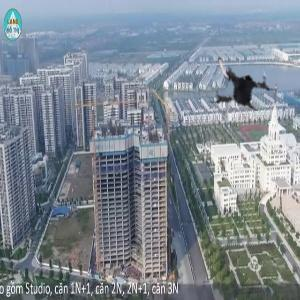drone: (200, 40, 284, 124)
